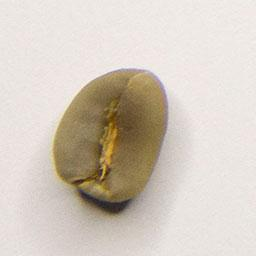premium: (49, 66, 172, 206)
